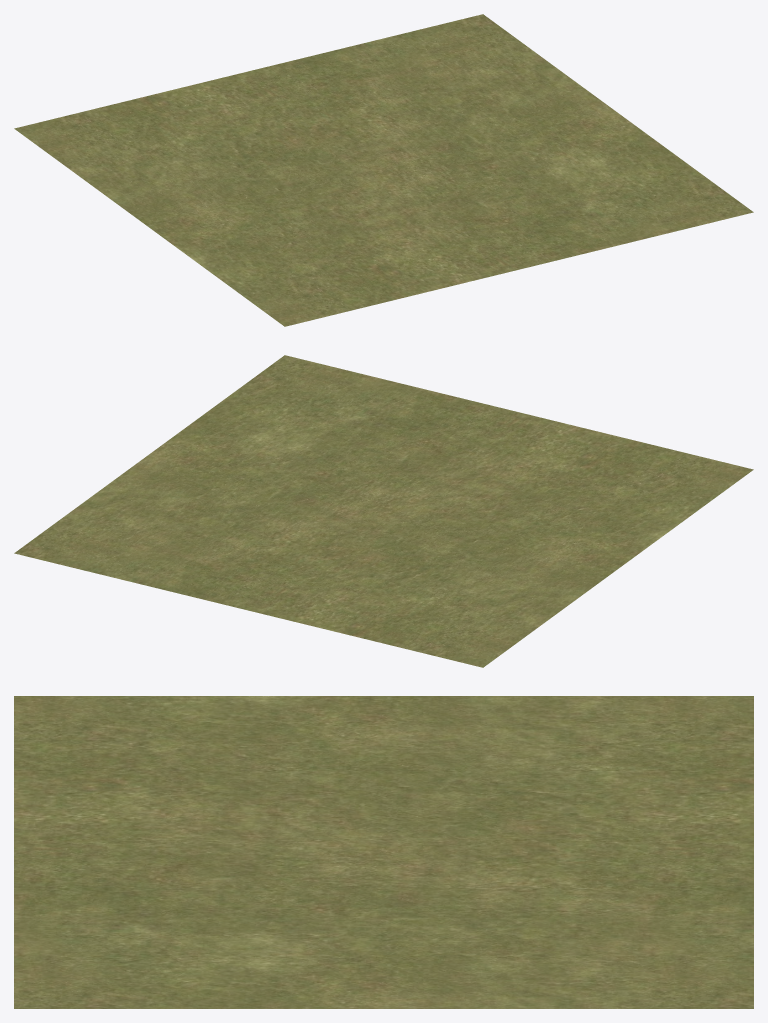
3 renders of one model, top to bottom at view 1: azimuth 30°, elevation 25°; view 2: azimuth 150°, elevation 25°; view 3: azimuth 270°, elevation 25°, orthographic. The views are drawn at different scales.
Visible parts, largest first — view 1: terrain_o; view 2: terrain_o; view 3: terrain_o.
Part boxes in pixels (box(x1,y1,x2,y2)): terrain_o: box(14, 14, 753, 326); terrain_o: box(14, 355, 753, 667); terrain_o: box(14, 696, 753, 1008).
Size of the model in its own units: 299 by 0.000581 by 299.
Materials: 1 (1 with a texture image).
